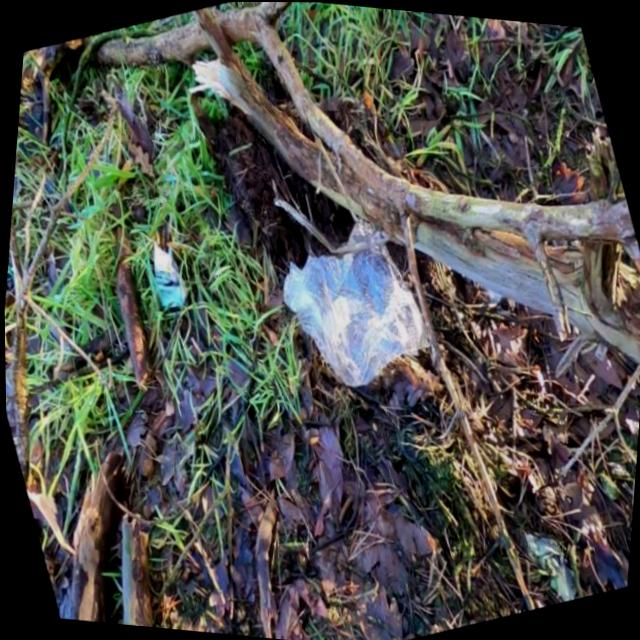Paper: (135, 230, 195, 313)
